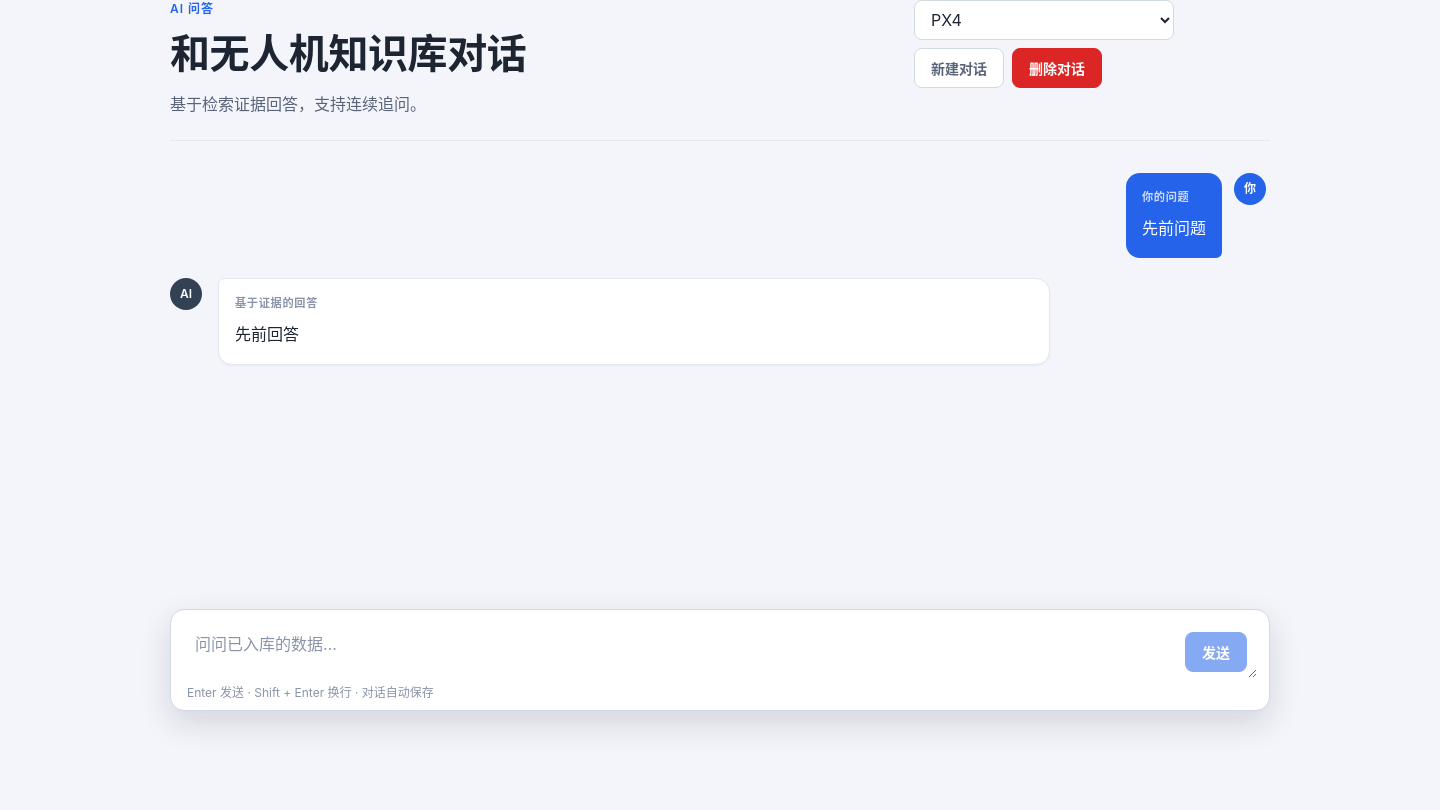
Test: AI chat streaming and sessions › requires confirmation then removes the conversation and remembered id
Expected: the text "先前回答" is shown, [235, 324, 299, 344]
Click the button "删除对话".
click(1057, 68)  # box [1012, 48, 1102, 88]
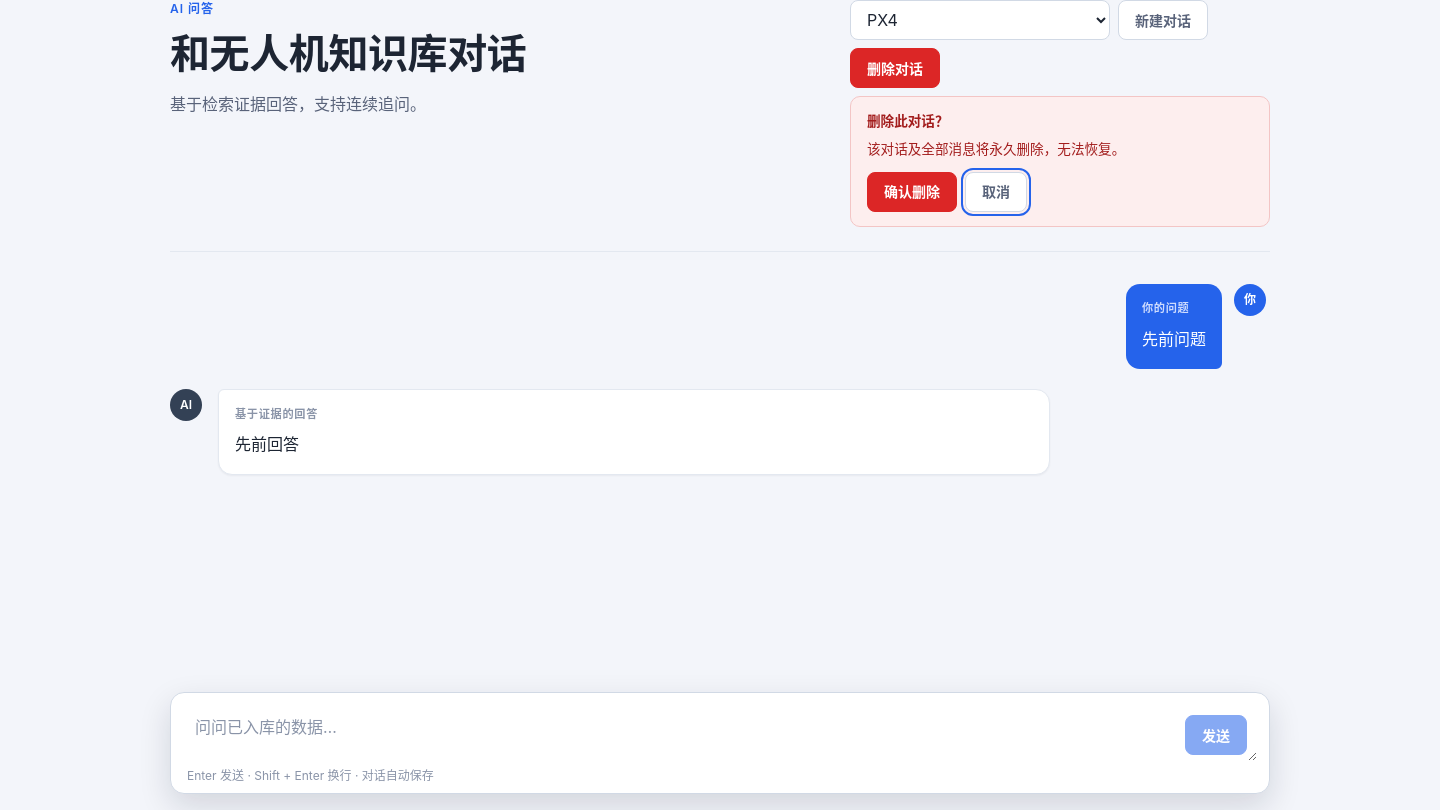
Now the dialog "删除此对话？" is shown, box [850, 96, 1270, 227]
Click the button "确认删除".
click(912, 192)  # box [867, 172, 957, 212]
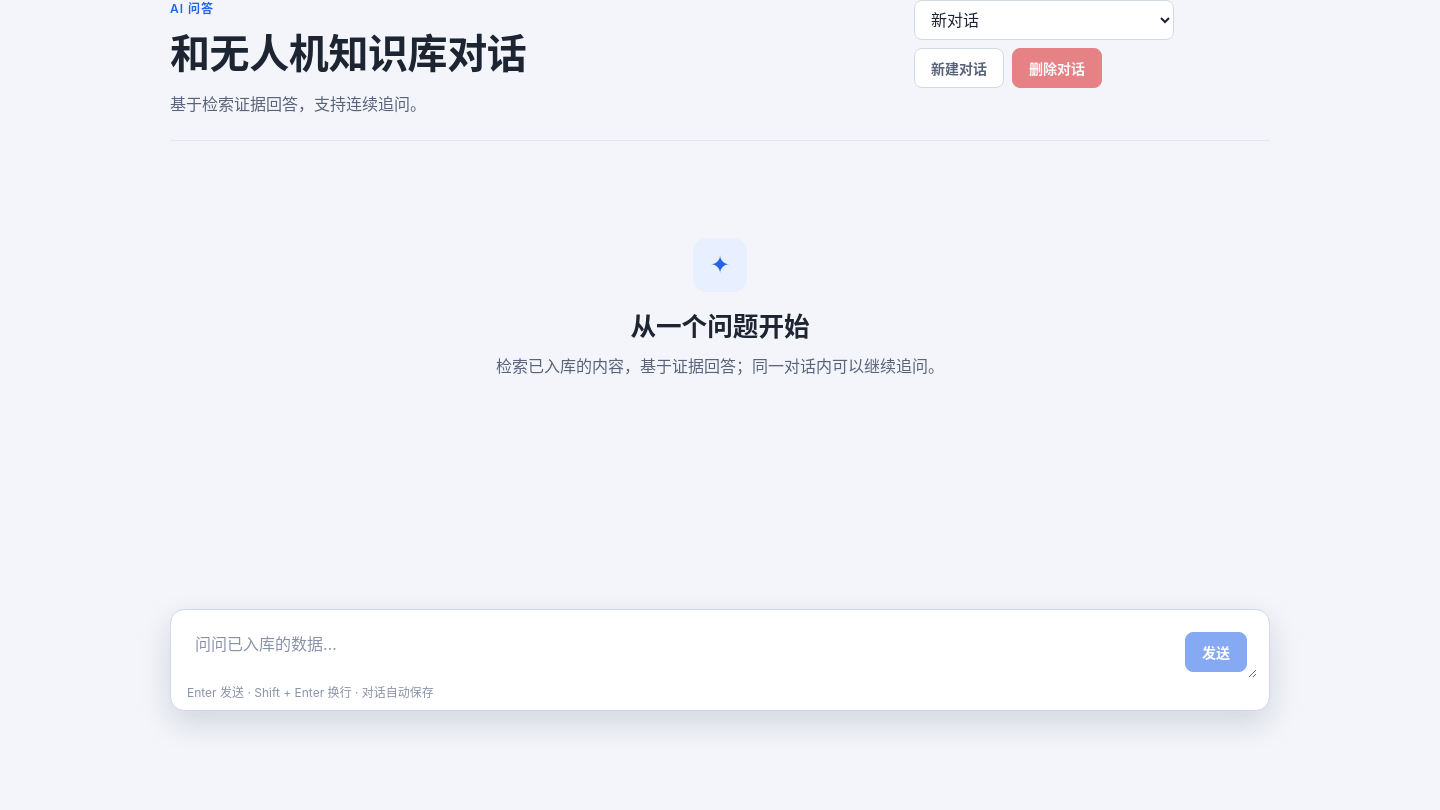
Now the text "先前回答" is gone
Now the heading "从一个问题开始" is shown, box [630, 308, 810, 346]
Now the button "删除对话" is disabled, box [1012, 48, 1102, 88]
